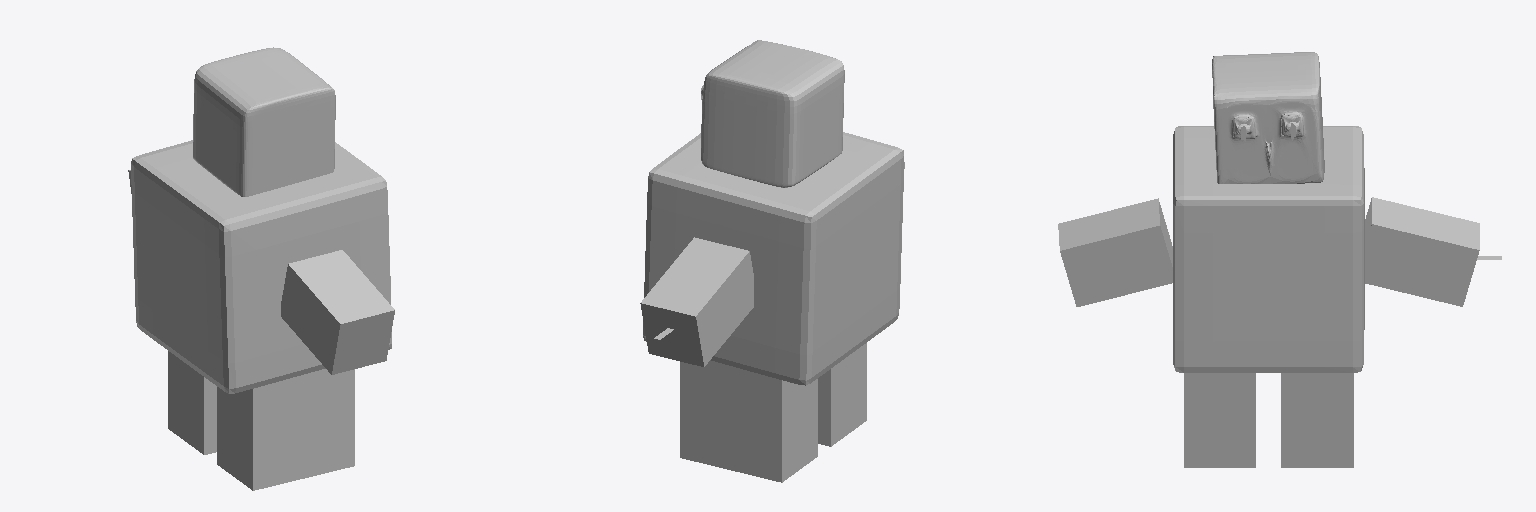
3 views of the same model, side by side, from view 1: azimuth 30°, elevation 25°; view 2: azimuth 150°, elevation 25°; view 3: azimuth 270°, elevation 25° (orthographic).
Visible parts, largest first — view 1: Cube_Cube.001, Cube.001_Cube.002, CollisionLL_Cube.003, Cube.005_Cube.007, Cube.003_Cube.004; view 2: Cube_Cube.001, Cube.001_Cube.002, Cube.003_Cube.004, Cube.004_Cube.005, CollisionLL_Cube.003; view 3: Cube_Cube.001, Cube.001_Cube.002, Cube.004_Cube.005, Cube.005_Cube.007, Cube.003_Cube.004, CollisionLL_Cube.003.
Boxes of the visible parts, x1=… form: Cube_Cube.001: x1=131, y1=140, x2=391, y2=393; Cube.001_Cube.002: x1=193, y1=47, x2=335, y2=196; CollisionLL_Cube.003: x1=217, y1=369, x2=354, y2=490; Cube.005_Cube.007: x1=281, y1=250, x2=394, y2=374; Cube.003_Cube.004: x1=168, y1=351, x2=216, y2=454; Cube_Cube.001: x1=643, y1=132, x2=903, y2=385; Cube.001_Cube.002: x1=701, y1=40, x2=844, y2=187; Cube.003_Cube.004: x1=680, y1=360, x2=817, y2=482; Cube.004_Cube.005: x1=640, y1=237, x2=753, y2=366; CollisionLL_Cube.003: x1=818, y1=343, x2=866, y2=446; Cube_Cube.001: x1=1173, y1=126, x2=1364, y2=372; Cube.001_Cube.002: x1=1212, y1=52, x2=1324, y2=183; Cube.004_Cube.005: x1=1365, y1=197, x2=1479, y2=306; Cube.005_Cube.007: x1=1058, y1=198, x2=1172, y2=306; Cube.003_Cube.004: x1=1281, y1=373, x2=1353, y2=467; CollisionLL_Cube.003: x1=1184, y1=373, x2=1255, y2=467.
Size of the model in its own units: 1.5 by 3.14 by 3.37.